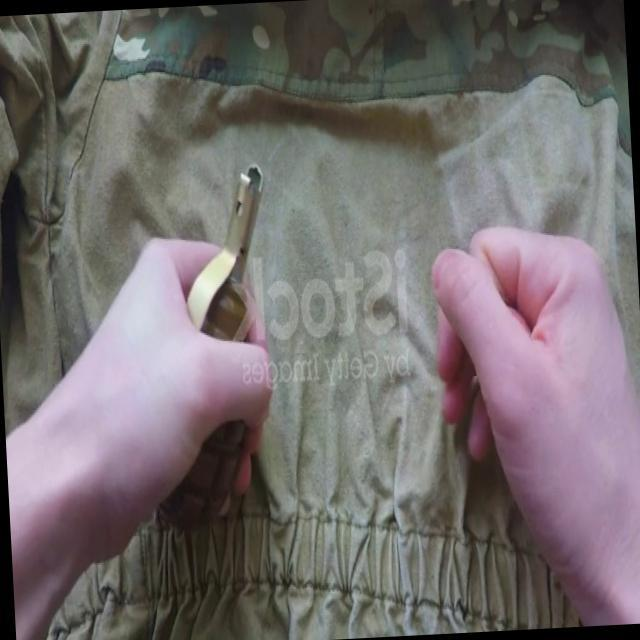grenade: (134, 156, 279, 526)
